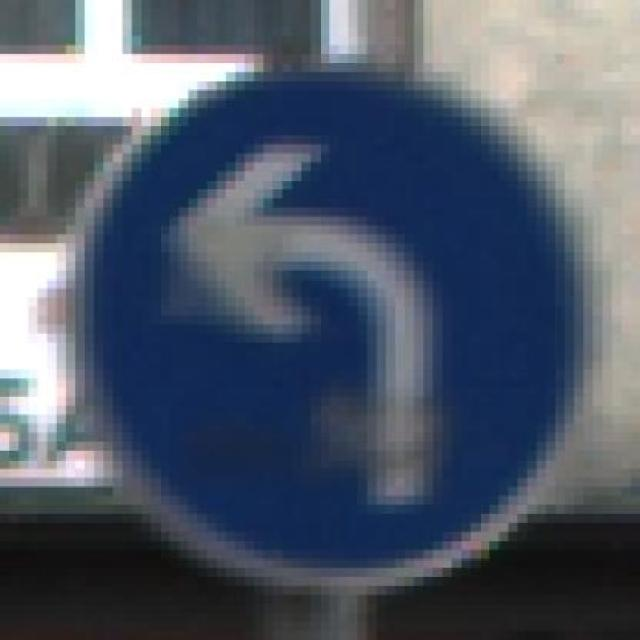Turn left ahead: (65, 54, 602, 586)
